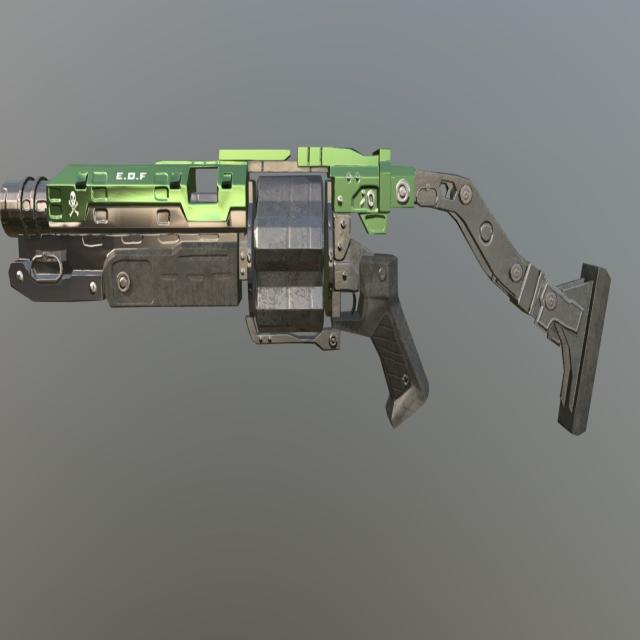Weapon: (0, 147, 609, 433)
